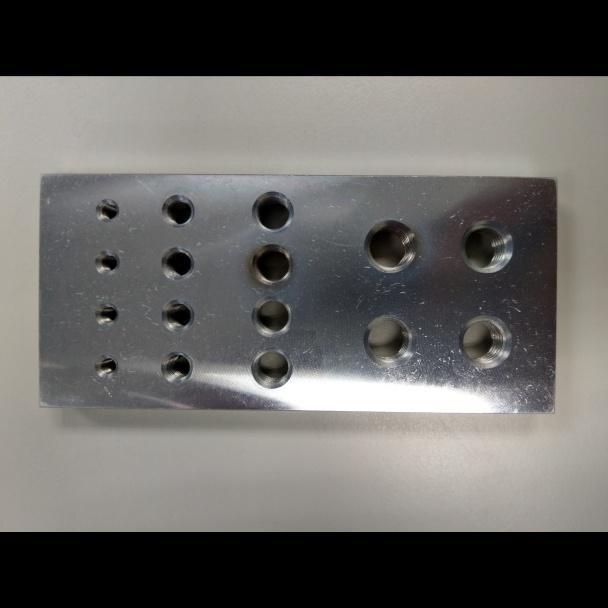hole: (362, 218, 417, 273), (459, 218, 514, 273), (458, 313, 512, 369), (362, 313, 415, 368), (251, 190, 294, 234), (250, 242, 293, 285), (250, 294, 292, 338), (250, 346, 292, 389), (159, 246, 194, 281), (160, 193, 195, 228), (160, 298, 195, 332), (160, 350, 192, 383), (94, 353, 119, 380), (94, 249, 119, 275), (94, 197, 119, 222), (94, 301, 118, 326)
